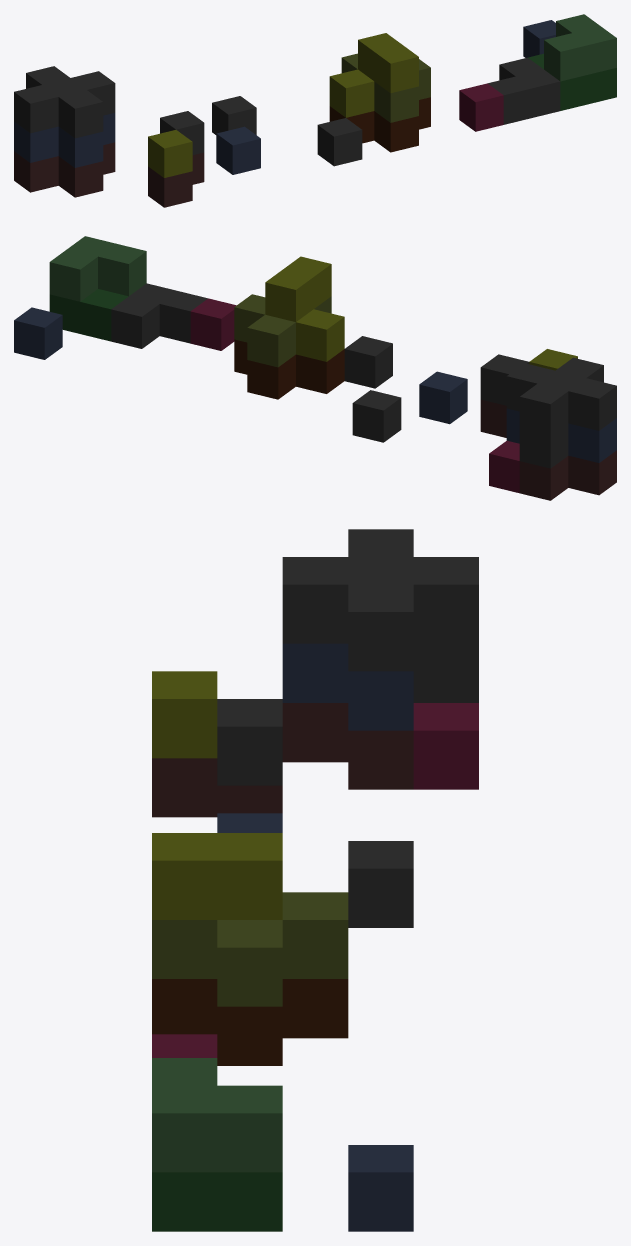
The model's file is NoodleCup2.obj.
3 views of the same model, one above another, from view 1: azimuth 30°, elevation 25°; view 2: azimuth 150°, elevation 25°; view 3: azimuth 270°, elevation 25° (orthographic). The views are drawn at different scales.
Bounding box in the file's own units: 1.9 × 0.3 × 0.5.
Materials: 1 (1 with a texture image).
